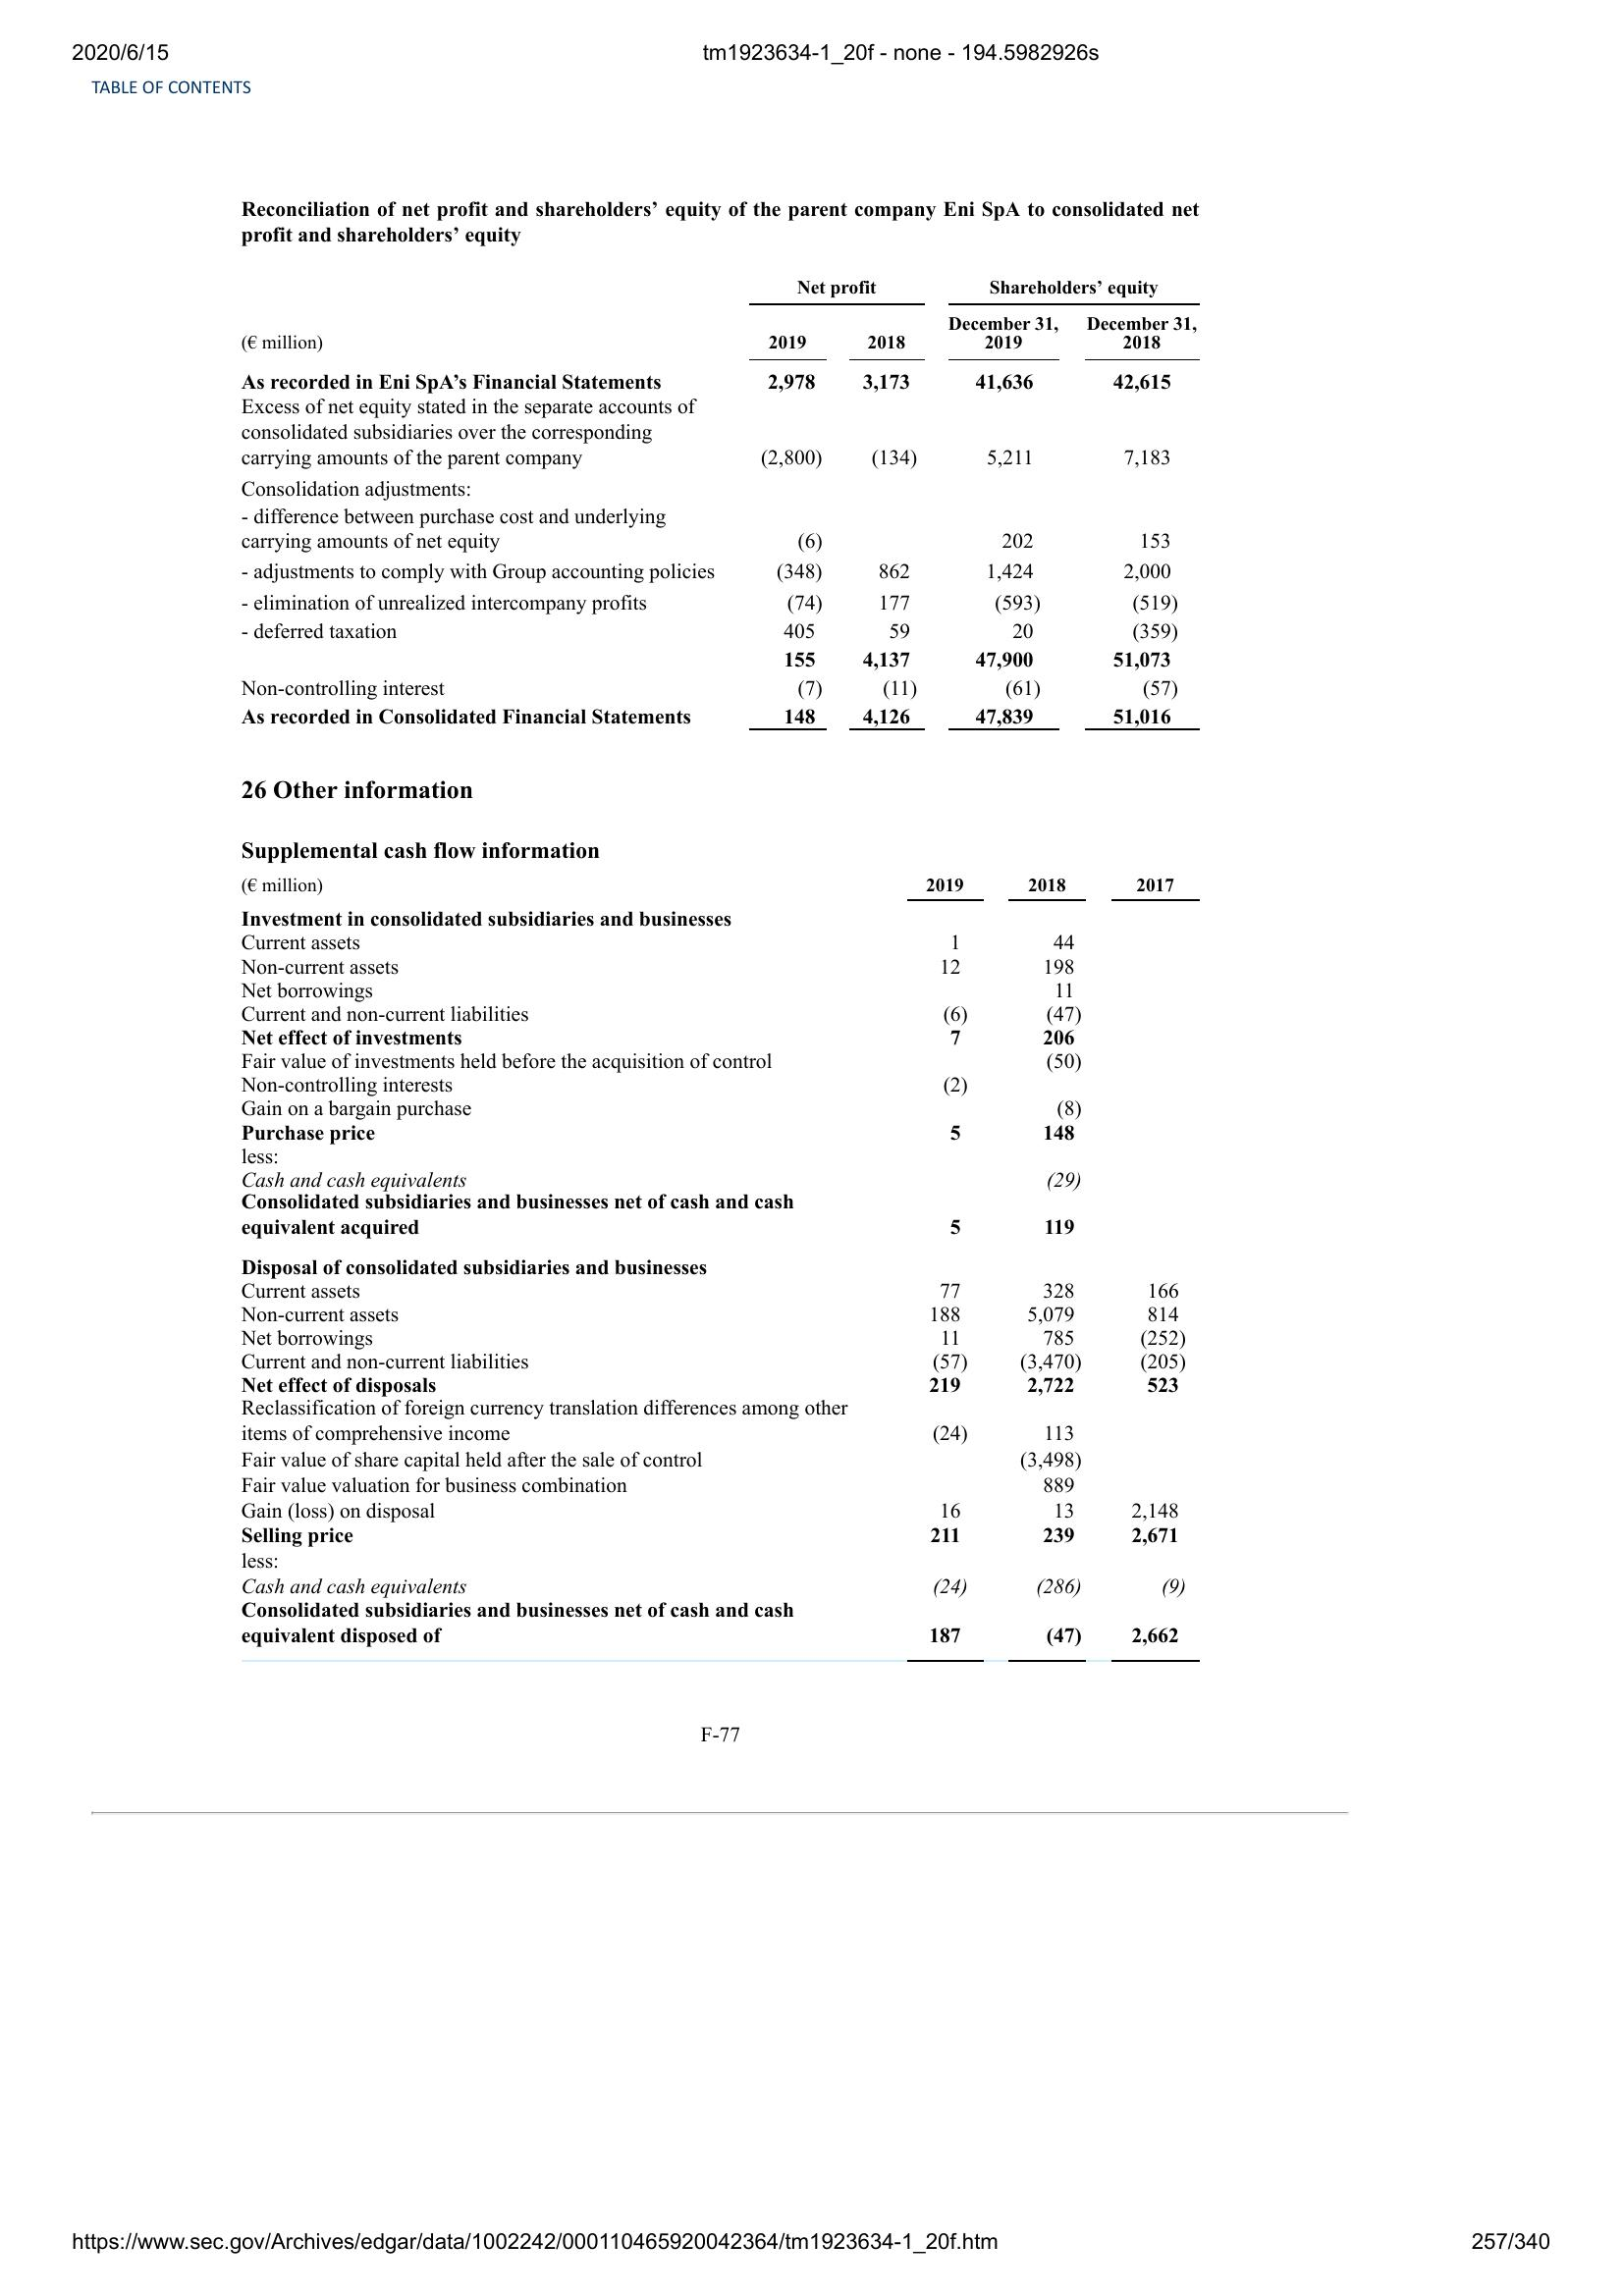table: (239, 867, 1210, 1671), (232, 274, 1219, 735)
